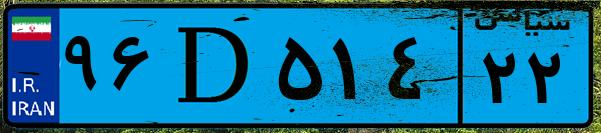1: (330, 28, 385, 110)
2: (475, 38, 525, 113), (525, 38, 570, 115)
4: (385, 28, 445, 110)
5: (270, 28, 330, 110)
6: (110, 28, 158, 98)
9: (57, 26, 110, 100)
D: (158, 12, 270, 120)
